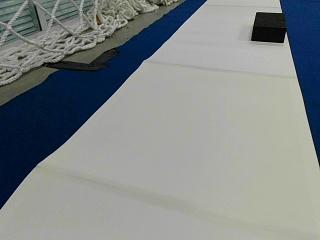block: (250, 11, 286, 41)
